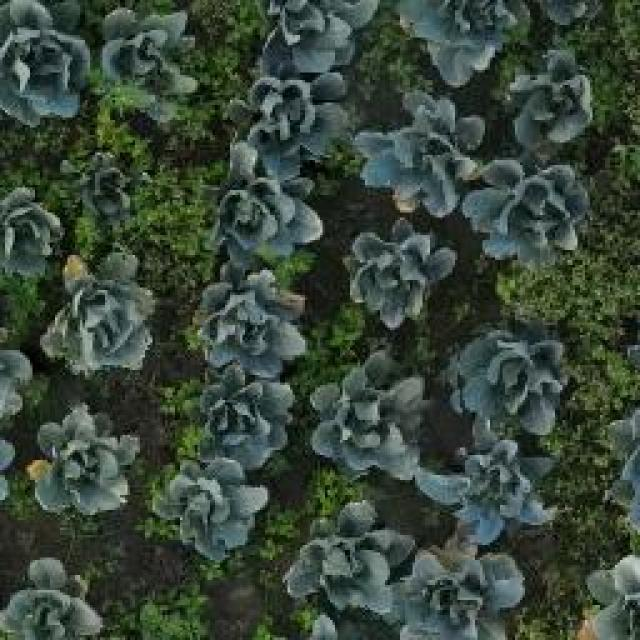cabbage: (195, 155, 318, 267), (336, 229, 455, 328), (365, 101, 484, 196), (317, 362, 418, 468), (95, 7, 200, 108), (195, 280, 307, 374), (288, 515, 392, 615), (228, 72, 342, 163), (181, 373, 290, 468), (160, 464, 267, 560), (482, 156, 589, 250), (456, 332, 556, 429), (437, 441, 548, 524), (52, 275, 151, 368), (0, 7, 78, 118), (38, 418, 131, 510), (410, 550, 506, 636), (503, 54, 598, 137), (76, 155, 142, 220)
